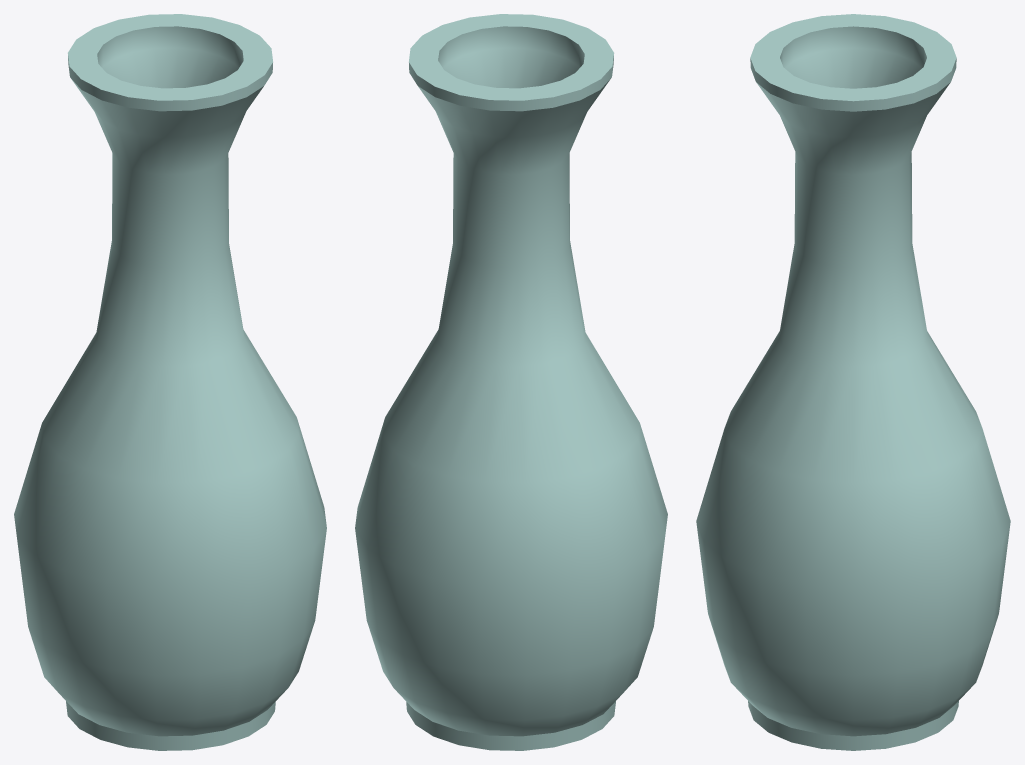
Rendered from OBJ_VaseA_01.fbx.
3 renders of one model, left to right at view 1: azimuth 30°, elevation 25°; view 2: azimuth 150°, elevation 25°; view 3: azimuth 270°, elevation 25°, orthographic.
Parts seen in each view (by area): view 1: vaseA; view 2: vaseA; view 3: vaseA.
Part boxes in pixels (x1=…): vaseA: x1=14, y1=14, x2=326, y2=750; vaseA: x1=355, y1=14, x2=667, y2=750; vaseA: x1=696, y1=14, x2=1010, y2=750.
Size of the model in its own units: 0.4392 by 1 by 0.4392.
